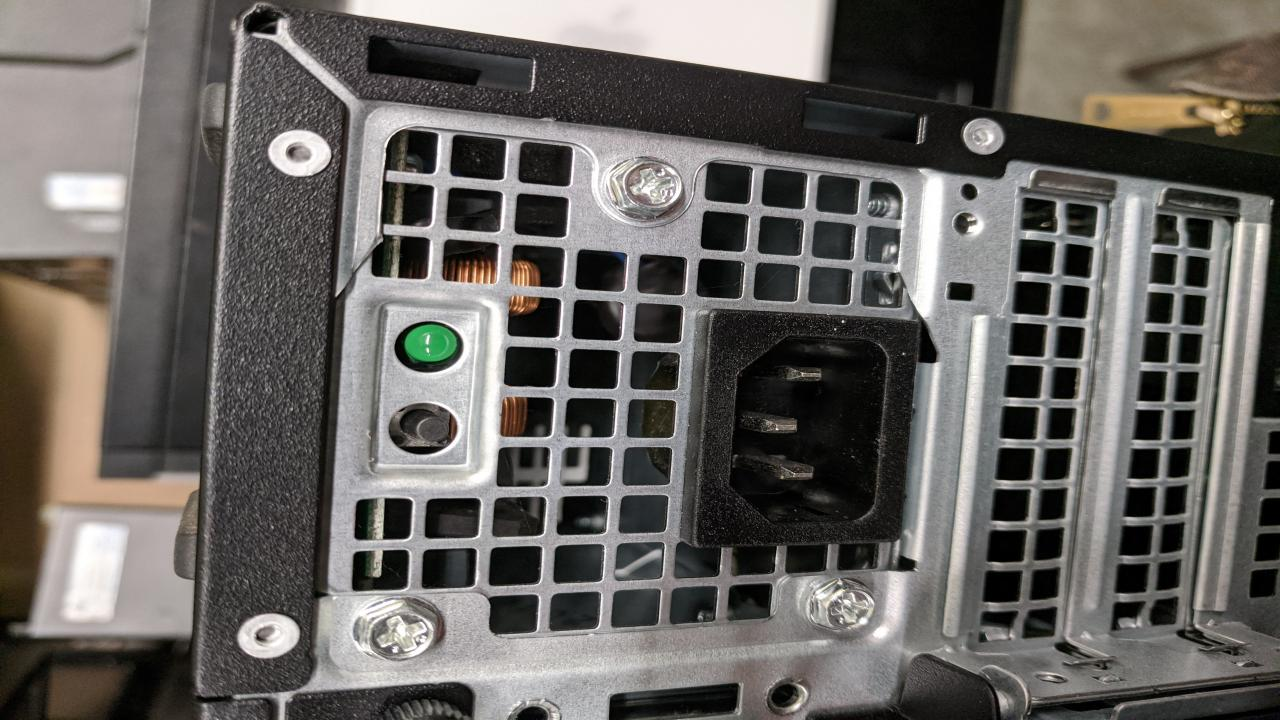CRS: (342, 594, 451, 662), (606, 154, 690, 221), (807, 574, 878, 631)
